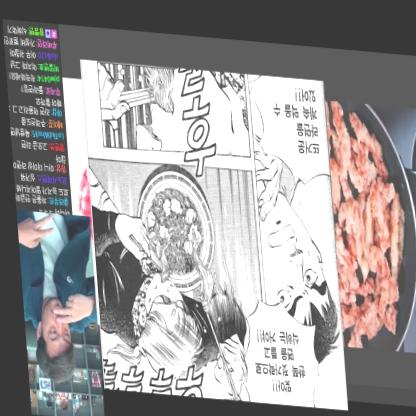streamer: (12, 210, 95, 382)
